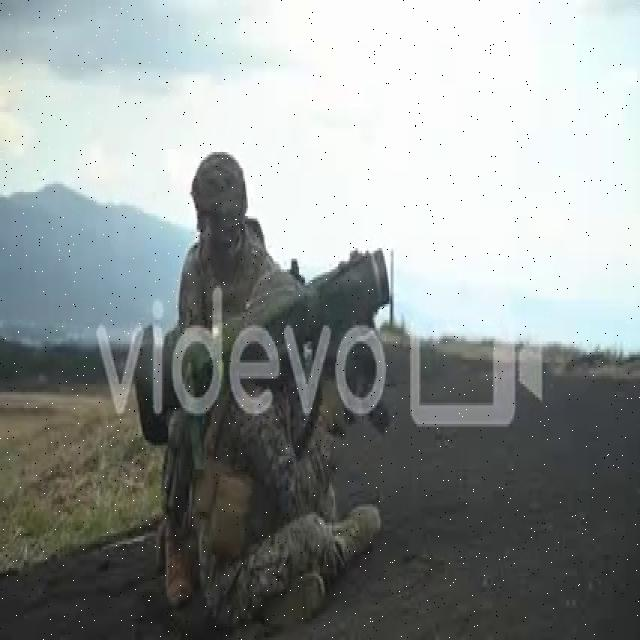bazooka: (134, 232, 399, 466)
